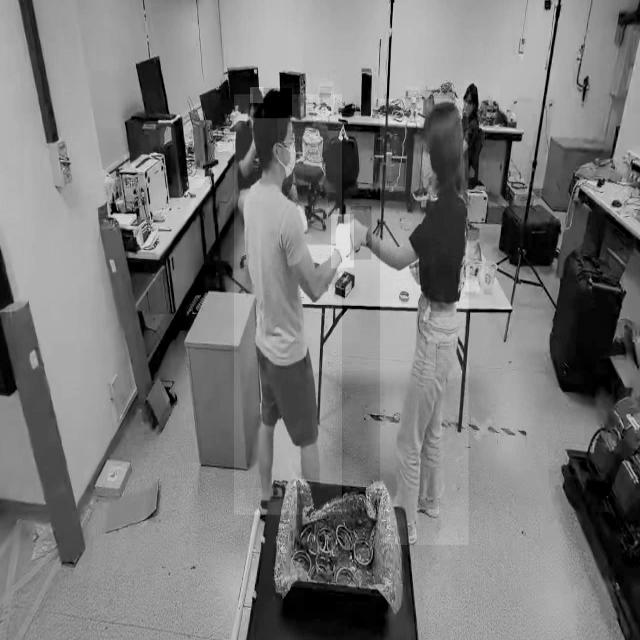face_mask: (414, 135, 446, 195), (278, 116, 304, 182)
hand_glove: (331, 214, 354, 268), (350, 207, 372, 260)
head_nohelmet: (423, 100, 463, 132), (253, 88, 292, 119), (250, 87, 264, 104), (464, 81, 478, 95)
person: (234, 94, 342, 516), (379, 99, 468, 546), (460, 75, 478, 169)
shoes: (406, 481, 444, 517)
